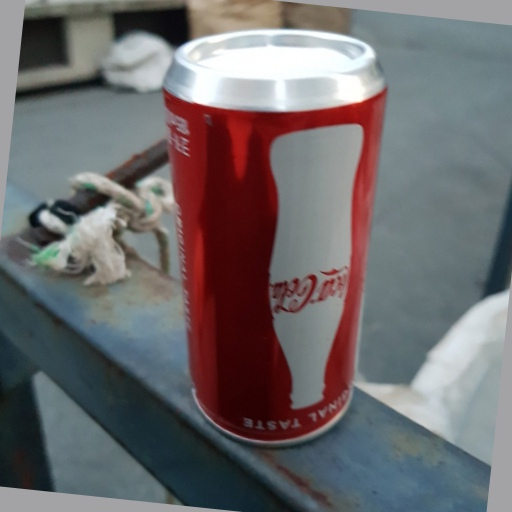Metal_0: (160, 30, 388, 442)
